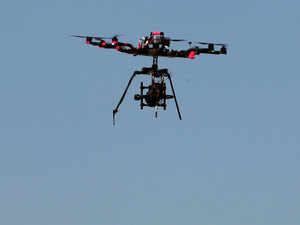drone: (62, 27, 233, 128)
